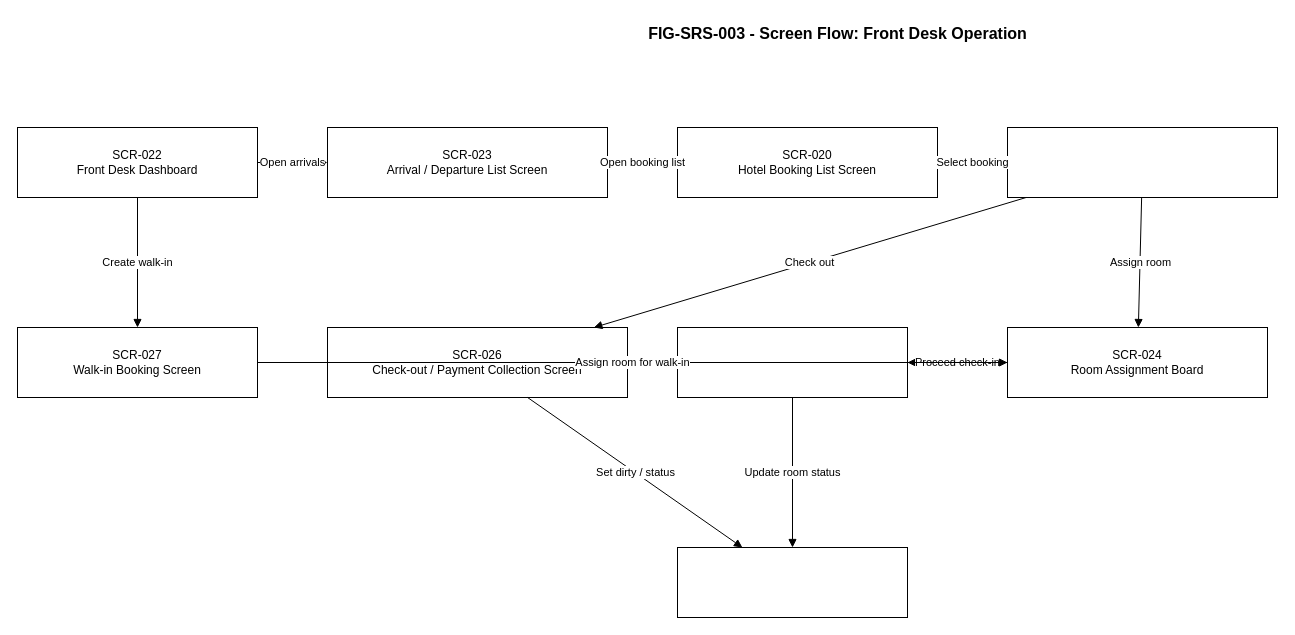
Some shapes in this 1295 by 635 pixel diagram are drawn without their labels. Here are the shapes that lost their labels. From the top down, the centre of each, then its label:
the point at 1142,162: SCR-021 Hotel Booking Detail Screen
the point at 792,362: SCR-025 Check-in Screen
the point at 792,582: SCR-035 Room Status Board
